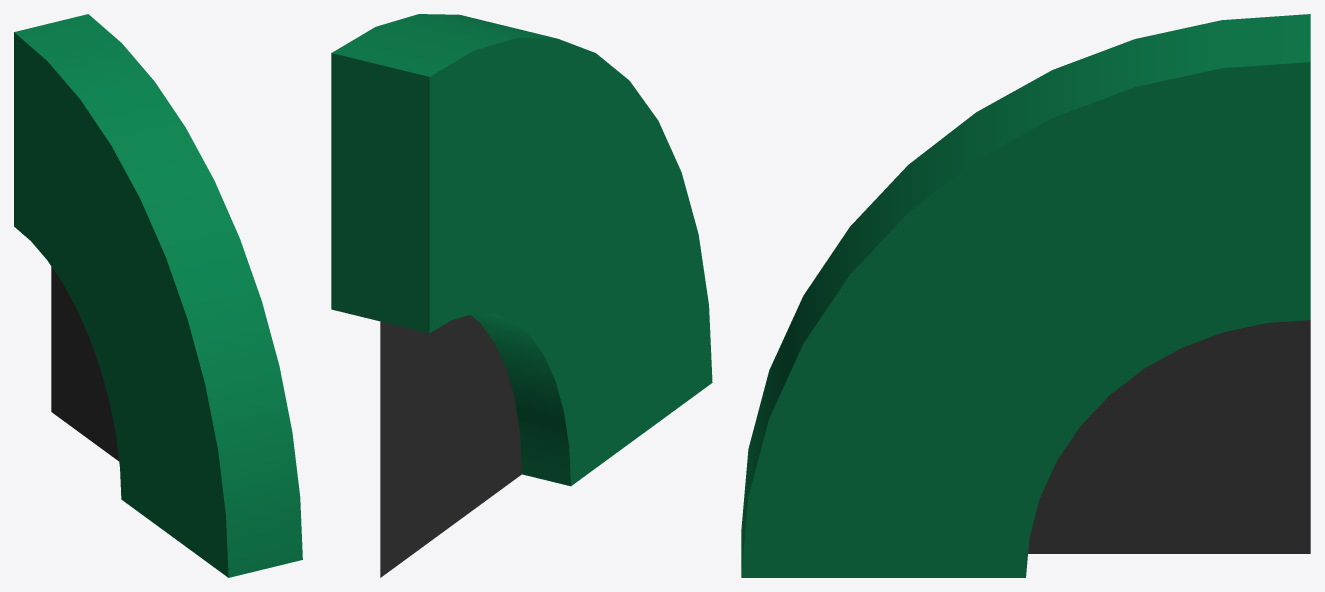
The model's file is SM_TextBox_Border_Corner.FBX.
The picture shows the model from 3 angles, left to right: view 1: azimuth 30°, elevation 25°; view 2: azimuth 150°, elevation 25°; view 3: azimuth 270°, elevation 25°; orthographic projection. The views are drawn at different scales.
Parts seen in each view (by area): view 1: SM_TextBox_Border_Corner; view 2: SM_TextBox_Border_Corner; view 3: SM_TextBox_Border_Corner.
Boxes of the visible parts, bbox=[...] form: SM_TextBox_Border_Corner: bbox=[14, 14, 302, 577]; SM_TextBox_Border_Corner: bbox=[331, 14, 712, 577]; SM_TextBox_Border_Corner: bbox=[741, 14, 1310, 577].
Size of the model in its own units: 2 by 10 by 10.
